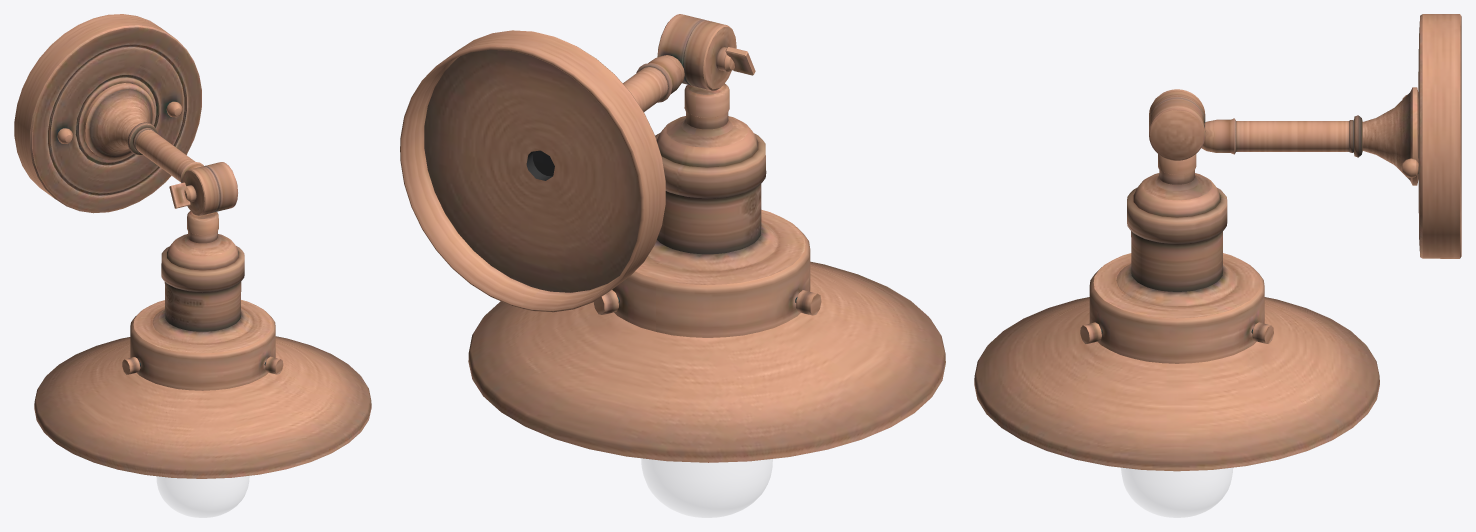
The model's file is wall-lamp.glb.
3 views of the same model, side by side, from view 1: azimuth 30°, elevation 25°; view 2: azimuth 150°, elevation 25°; view 3: azimuth 270°, elevation 25° (orthographic). The views are drawn at different scales.
Visible parts, largest first — view 1: Lamp Metal, Lamp Glass; view 2: Lamp Metal, Lamp Glass; view 3: Lamp Metal, Lamp Glass.
Part boxes in pixels (x1,y1,x2,y2): Lamp Metal: (14,14,371,478); Lamp Glass: (157,476,249,517); Lamp Metal: (400,14,945,462); Lamp Glass: (641,458,772,517); Lamp Metal: (974,14,1461,471); Lamp Glass: (1121,468,1232,517).
Size of the model in its own units: 0.1908 by 0.2552 by 0.2265.
Materials: 3 (1 with a texture image).
